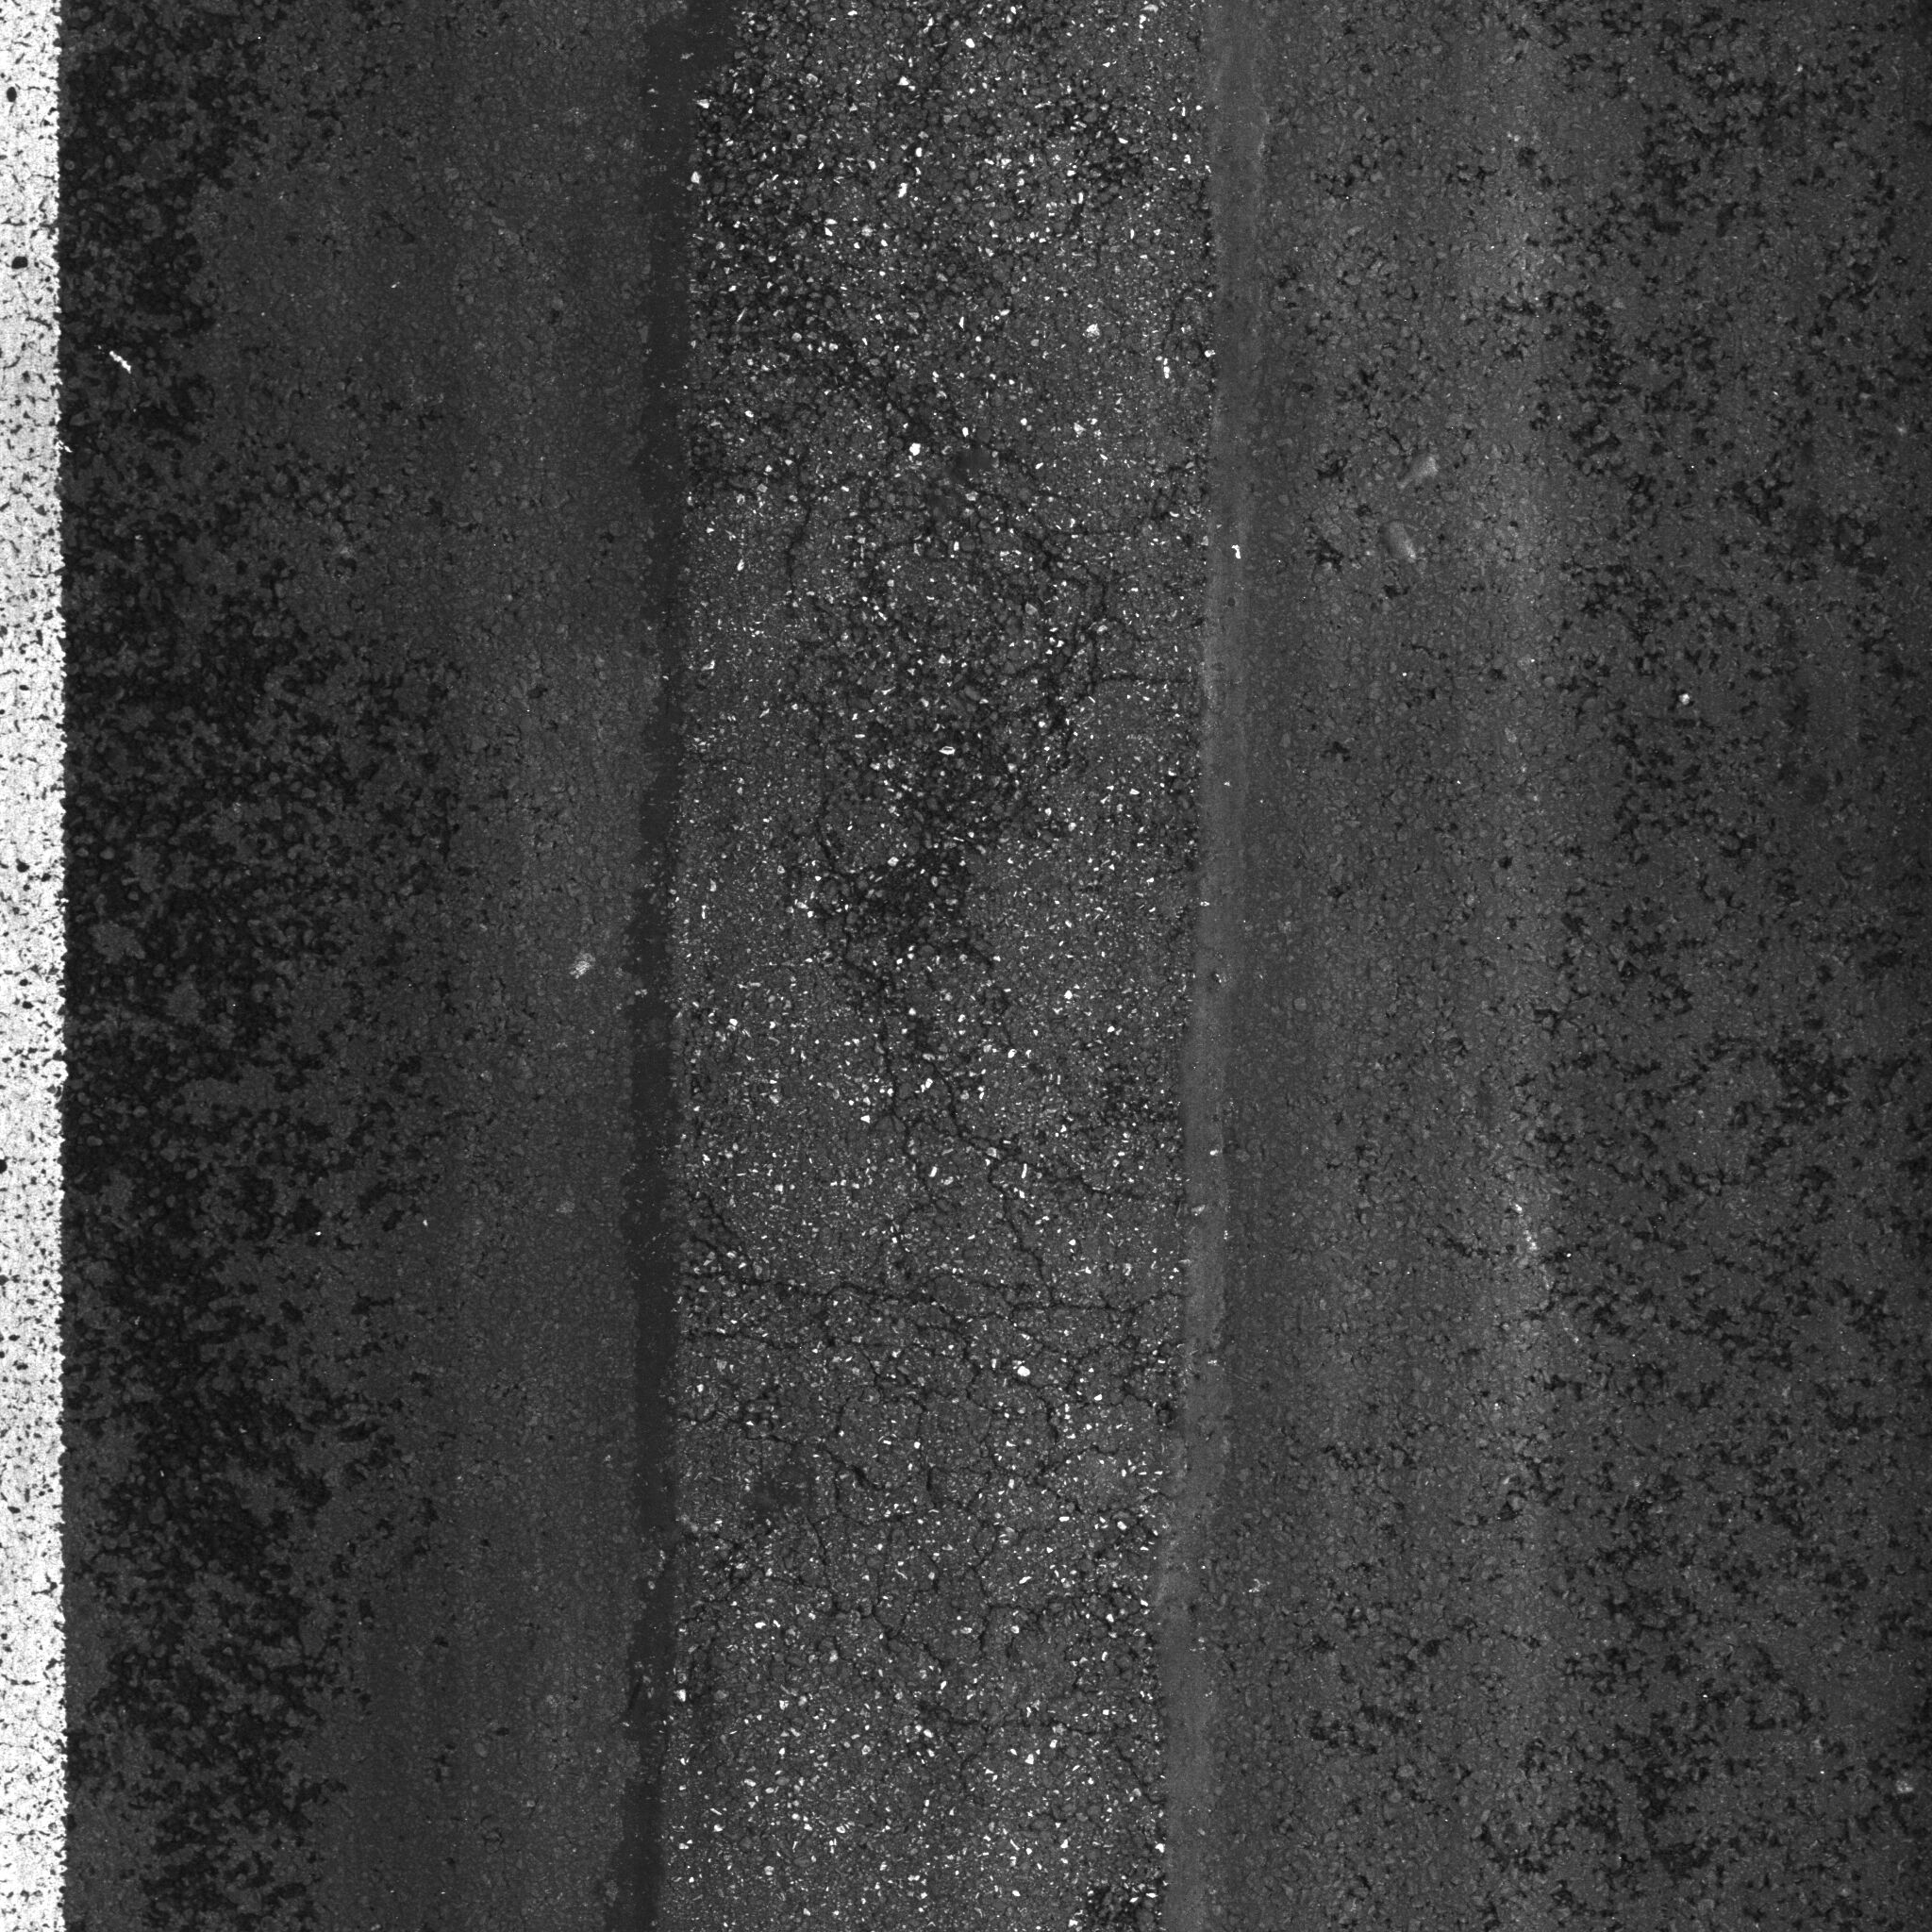alligator: (563, 108, 1334, 1435)
